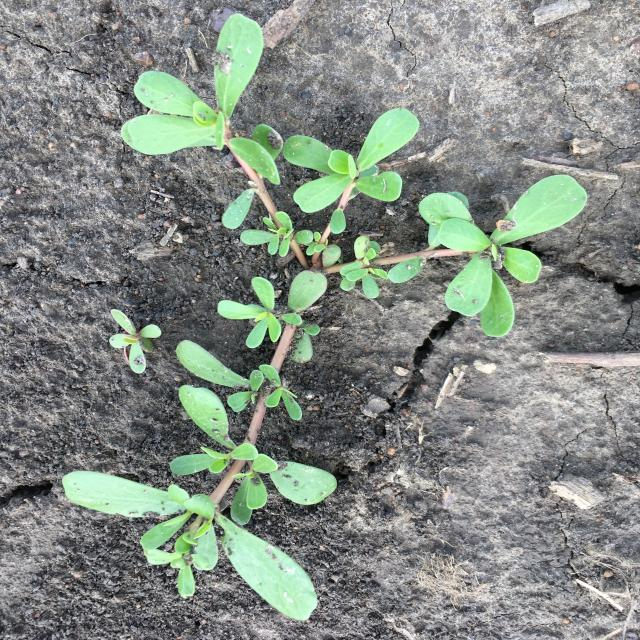Purslane: (62, 13, 588, 621), (108, 309, 162, 374)
